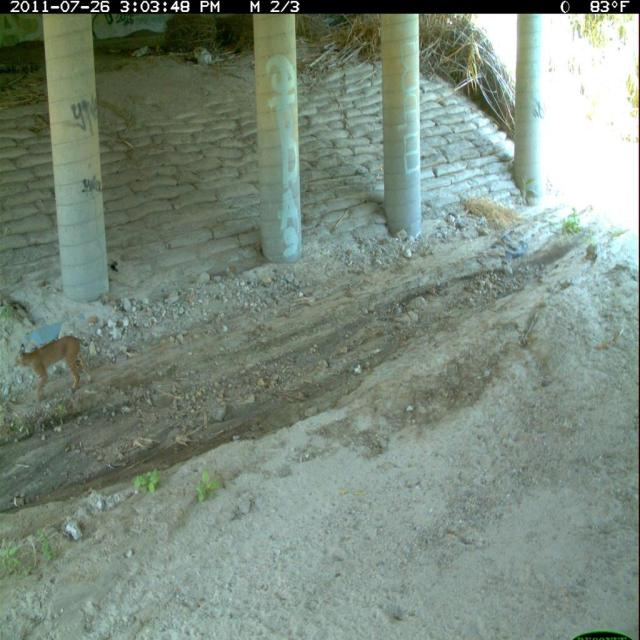bobcat: (11, 331, 96, 408)
